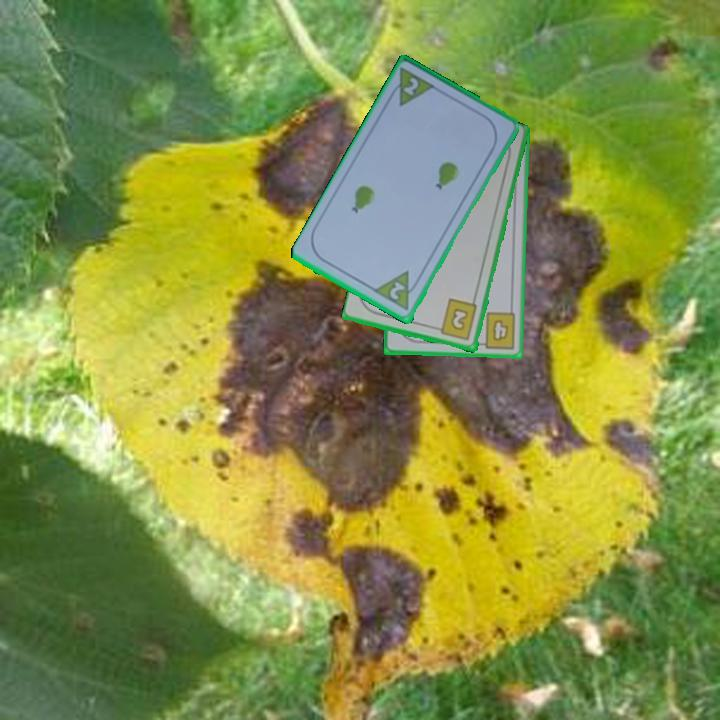2b: (432, 296, 480, 343)
2p: (385, 65, 439, 110), (386, 278, 408, 303)
4b: (474, 309, 519, 351)
